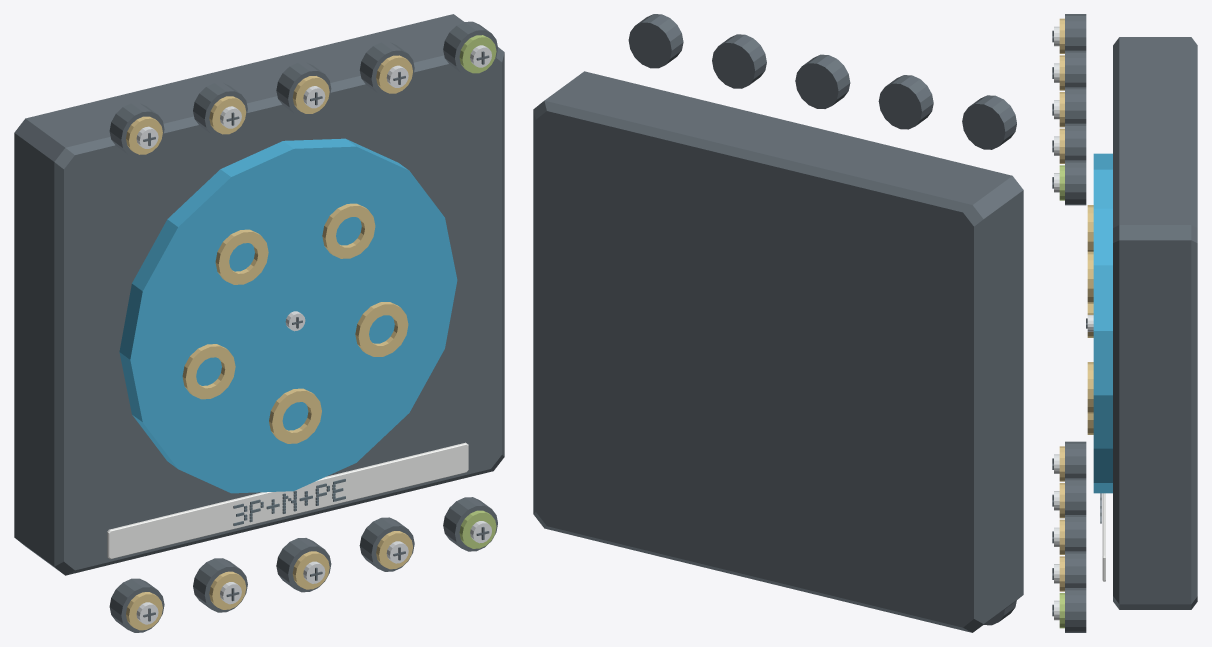
Rendered from industrialSocket.glb.
3 renders of one model, left to right at view 1: azimuth 30°, elevation 25°; view 2: azimuth 150°, elevation 25°; view 3: azimuth 270°, elevation 25°, orthographic. The views are drawn at different scales.
Parts seen in each view (by area): view 1: industrialSocket-preview; view 2: industrialSocket-preview; view 3: industrialSocket-preview.
Part boxes in pixels (left/top/right/bottom): industrialSocket-preview: left=14, top=14, right=504, bottom=632; industrialSocket-preview: left=533, top=14, right=1023, bottom=632; industrialSocket-preview: left=1052, top=14, right=1197, bottom=632.
Size of the model in its own units: 3.26 by 3.61 by 1.01.
